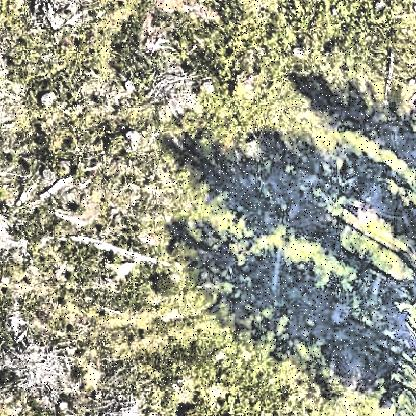tree-top: (152, 275, 174, 297)
